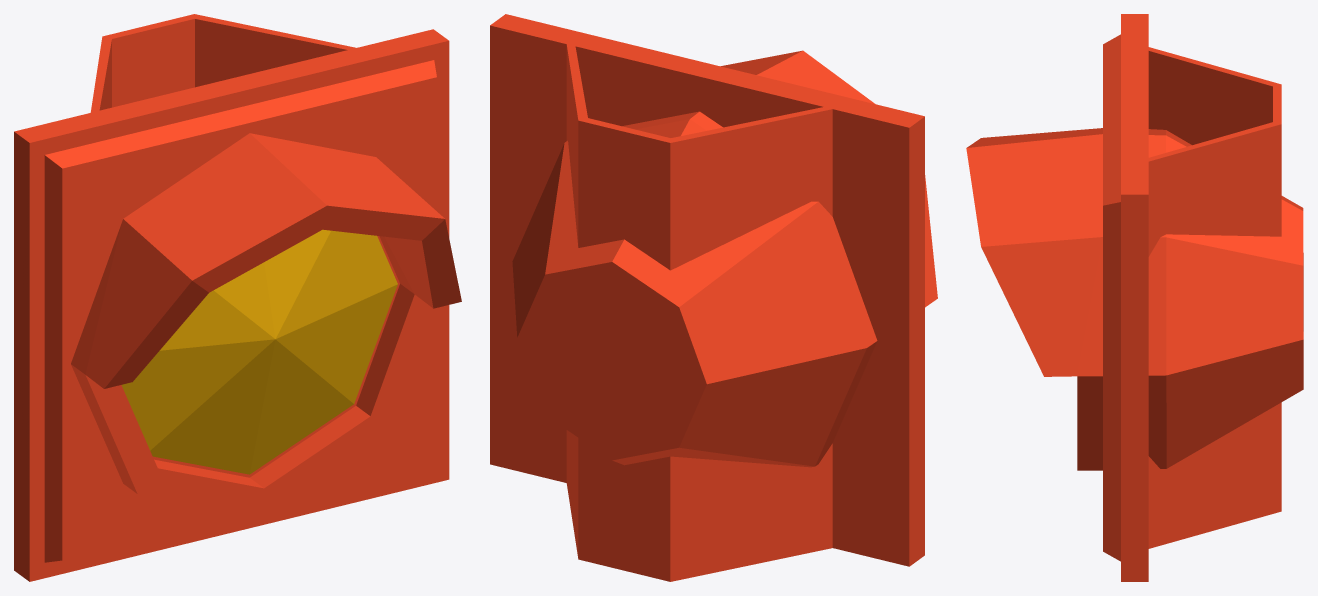
The model's file is SM_Traffic_Light_Simple_A_City.fbx.
3 views of the same model, side by side, from view 1: azimuth 30°, elevation 25°; view 2: azimuth 150°, elevation 25°; view 3: azimuth 270°, elevation 25° (orthographic). The views are drawn at different scales.
Visible parts, largest first — view 1: SM_Traffic_Light_Simple_A_City; view 2: SM_Traffic_Light_Simple_A_City; view 3: SM_Traffic_Light_Simple_A_City.
Part boxes in pixels (x1,y1,x2,y2): SM_Traffic_Light_Simple_A_City: (14,14,461,581); SM_Traffic_Light_Simple_A_City: (490,14,937,581); SM_Traffic_Light_Simple_A_City: (966,14,1303,581).
Bounding box in the file's own units: 0.3467 × 0.3467 × 0.2736.
